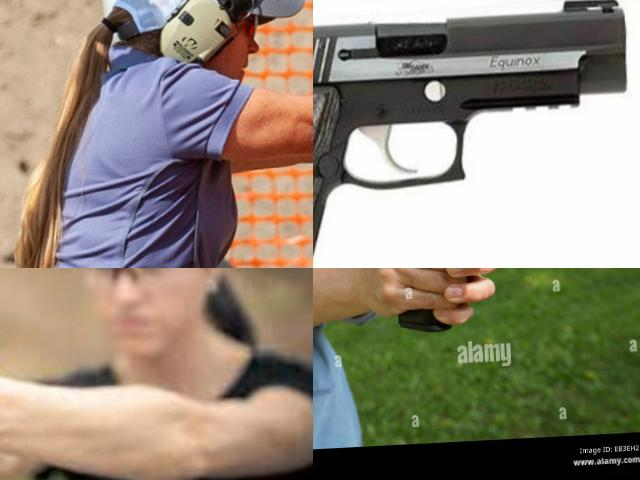handgun: (313, 0, 640, 268), (383, 268, 588, 369), (0, 289, 97, 445)
